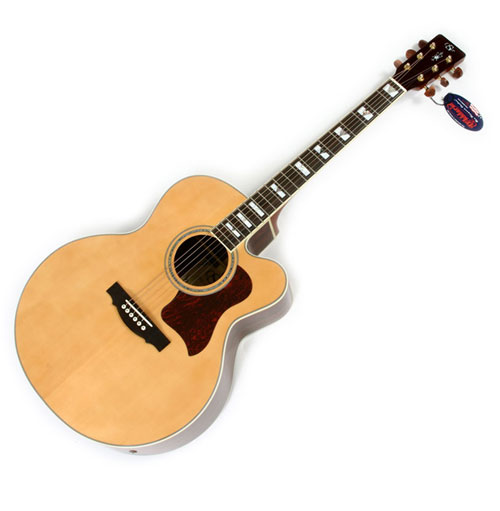guitar: (13, 32, 466, 456)
